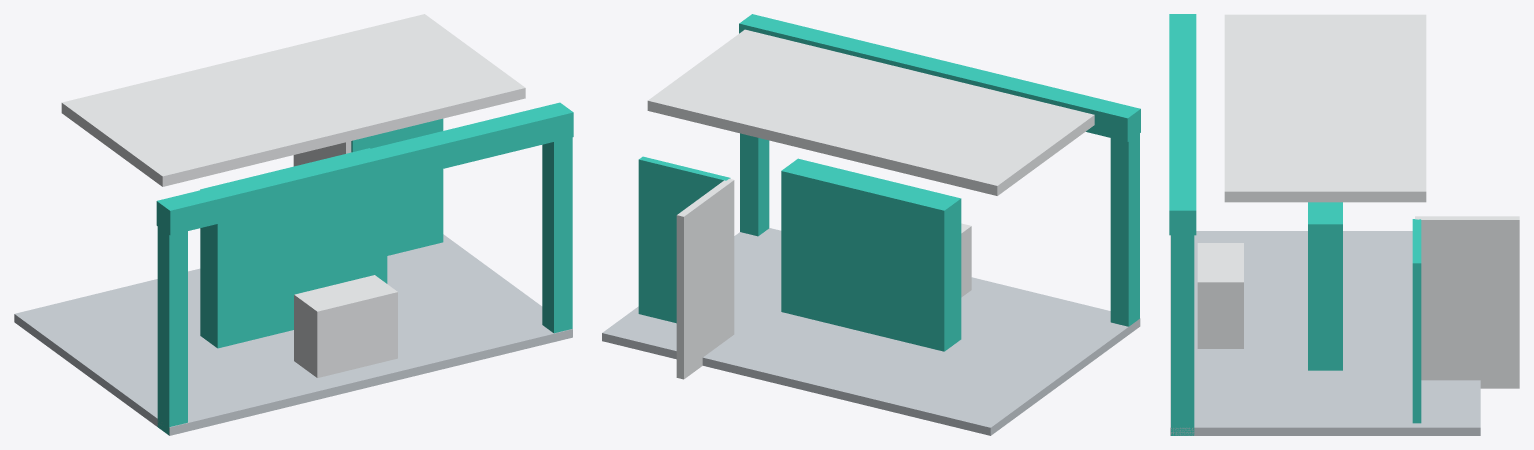
3 renders of one model, left to right at view 1: azimuth 30°, elevation 25°; view 2: azimuth 150°, elevation 25°; view 3: azimuth 270°, elevation 25°, orthographic. The views are drawn at different scales.
Parts seen in each view (by area): view 1: Exhibition Booth Concept; view 2: Exhibition Booth Concept; view 3: Exhibition Booth Concept.
Boxes of the visible parts, <box> form: Exhibition Booth Concept: <box>14,14,573,435</box>; Exhibition Booth Concept: <box>602,14,1140,435</box>; Exhibition Booth Concept: <box>1169,14,1519,435</box>.
Size of the model in its own units: 6 by 3.34 by 4.52.
